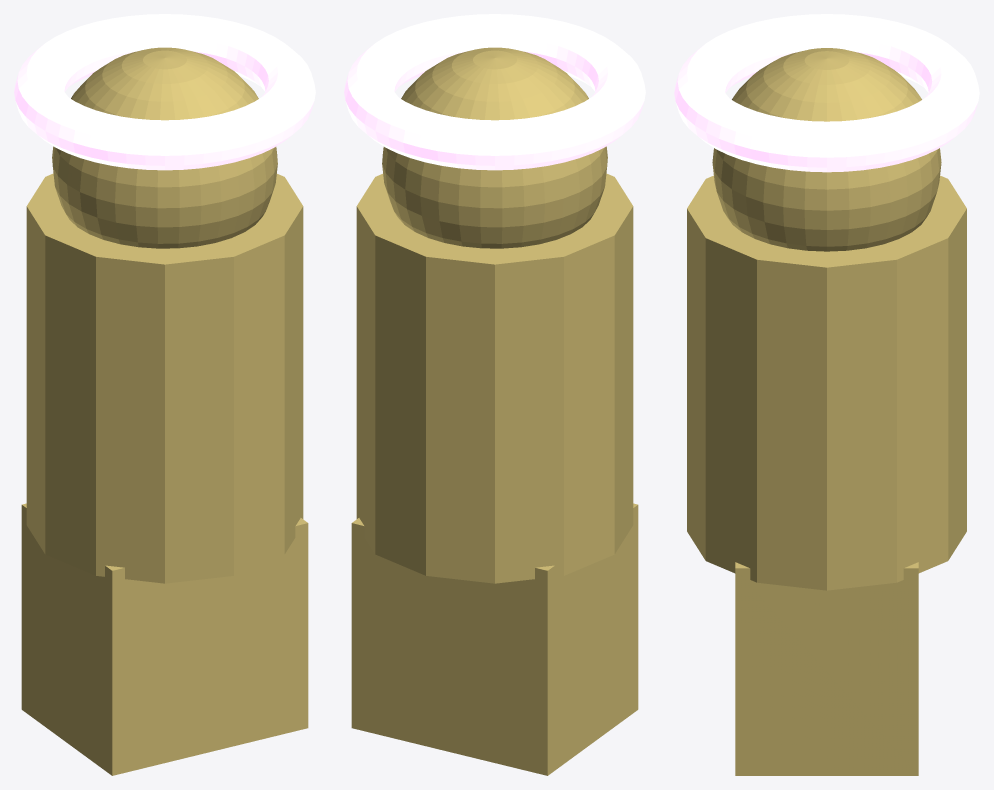
Rendered from SporeWeaverIdol.glb.
3 views of the same model, side by side, from view 1: azimuth 30°, elevation 25°; view 2: azimuth 150°, elevation 25°; view 3: azimuth 270°, elevation 25° (orthographic).
Visible parts, largest first — view 1: SporeWeaverIdol; view 2: SporeWeaverIdol; view 3: SporeWeaverIdol.
Part boxes in pixels (left/top/right/bottom): SporeWeaverIdol: left=14, top=14, right=315, bottom=775; SporeWeaverIdol: left=344, top=14, right=645, bottom=775; SporeWeaverIdol: left=674, top=14, right=979, bottom=775.
Bounding box in the file's own units: 1.2 × 2.9 × 1.2.
